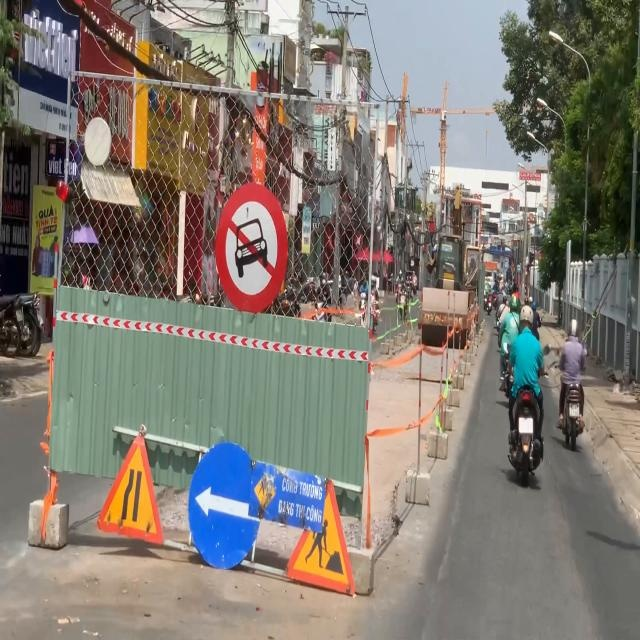bien_cam: (218, 178, 289, 312), (94, 423, 168, 551), (190, 438, 259, 567)
